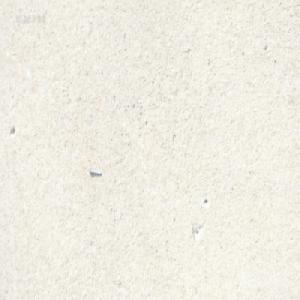Nail: (88, 165, 101, 175)
